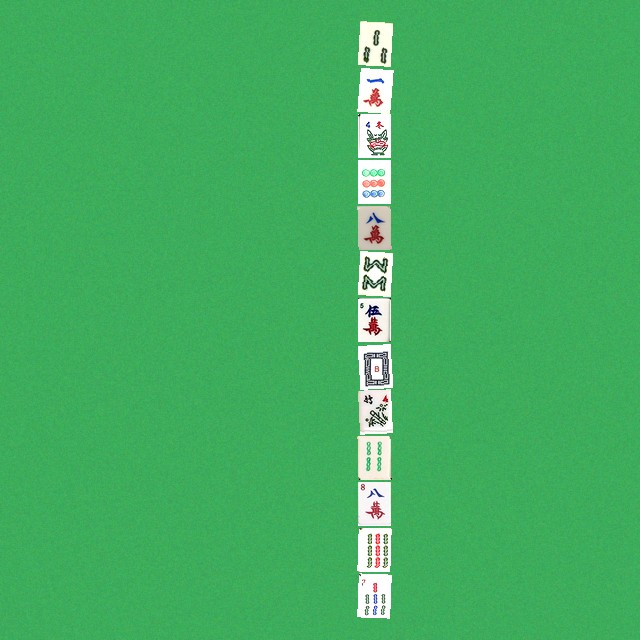tile: (357, 21, 390, 65), (357, 67, 390, 111), (357, 113, 390, 157), (357, 159, 390, 203), (357, 205, 390, 249), (357, 251, 390, 295), (357, 297, 390, 341), (357, 343, 390, 387), (357, 389, 390, 433), (357, 435, 390, 479), (357, 481, 390, 525), (357, 527, 390, 571), (357, 573, 390, 617)
